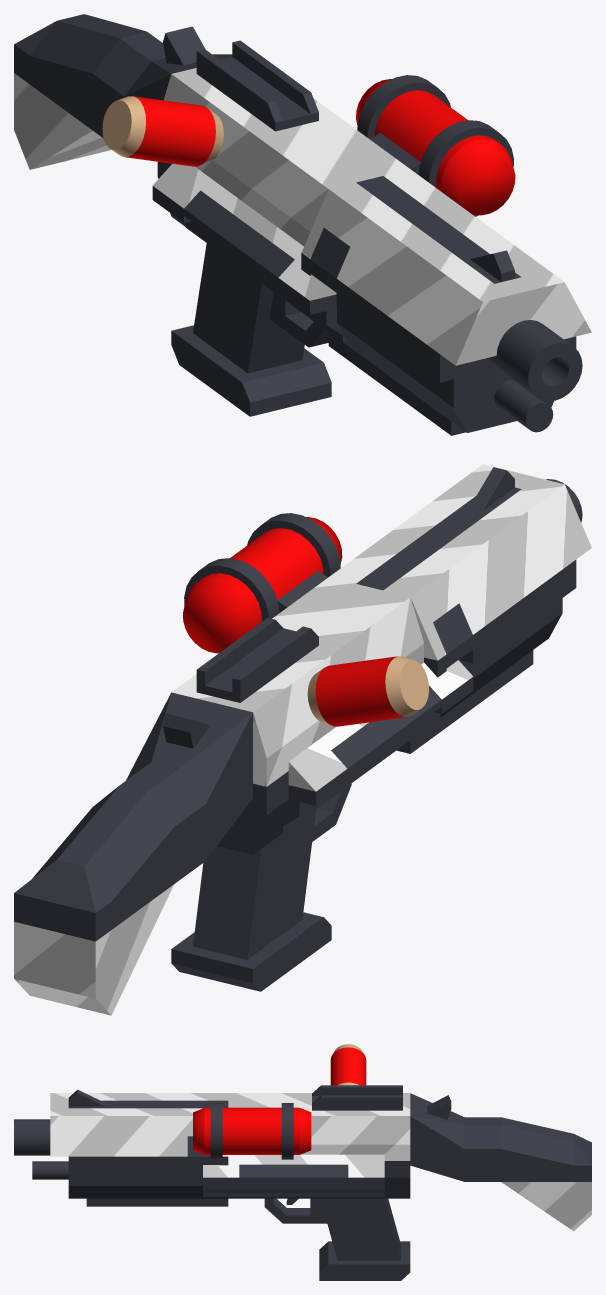
The model's file is SM_GasSMG_nomag_baketex.fbx.
3 views of the same model, one above another, from view 1: azimuth 30°, elevation 25°; view 2: azimuth 150°, elevation 25°; view 3: azimuth 270°, elevation 25° (orthographic). The views are drawn at different scales.
Parts seen in each view (by area): view 1: largeBlaster_barrelAssault, mediumBlaster_handle, largeBlaster_centerDetail (×2), stock_solid, attachment_barrel, attachment_handle, detailRail_front, detailTargetSightFront; view 2: stock_solid, mediumBlaster_handle, largeBlaster_barrelAssault, largeBlaster_centerDetail (×2), attachment_barrel, attachment_handle, detailRail_front, detailTargetSightFront; view 3: largeBlaster_barrelAssault, mediumBlaster_handle, stock_solid, largeBlaster_centerDetail (×2), attachment_barrel, detailRail_front, attachment_handle, detailTargetSightFront.
Boxes of the visible parts, x1,y1,x2,y2 form: largeBlaster_barrelAssault: (345,201,591,435); mediumBlaster_handle: (157,68,409,416); largeBlaster_centerDetail (×2): (152,163,454,377); stock_solid: (14,14,232,169); attachment_barrel: (356,75,515,216); attachment_handle: (102,96,223,166); detailRail_front: (196,40,318,131); detailTargetSightFront: (470,250,514,281); stock_solid: (14,692,252,1015); mediumBlaster_handle: (171,577,423,991); largeBlaster_barrelAssault: (373,464,591,721); largeBlaster_centerDetail (×2): (277,545,481,833); attachment_barrel: (183,513,342,653); attachment_handle: (307,656,428,726); detailRail_front: (196,618,318,702); detailTargetSightFront: (470,467,514,510); largeBlaster_barrelAssault: (14,1093,177,1206); mediumBlaster_handle: (228,1093,410,1280); stock_solid: (410,1093,591,1231); largeBlaster_centerDetail (×2): (177,1093,384,1206); attachment_barrel: (193,1103,311,1159); detailRail_front: (312,1085,402,1110); attachment_handle: (330,1044,366,1085); detailTargetSightFront: (68,1089,104,1106).
Bounding box in the file's own units: 10.47 × 11.42 × 31.8.
